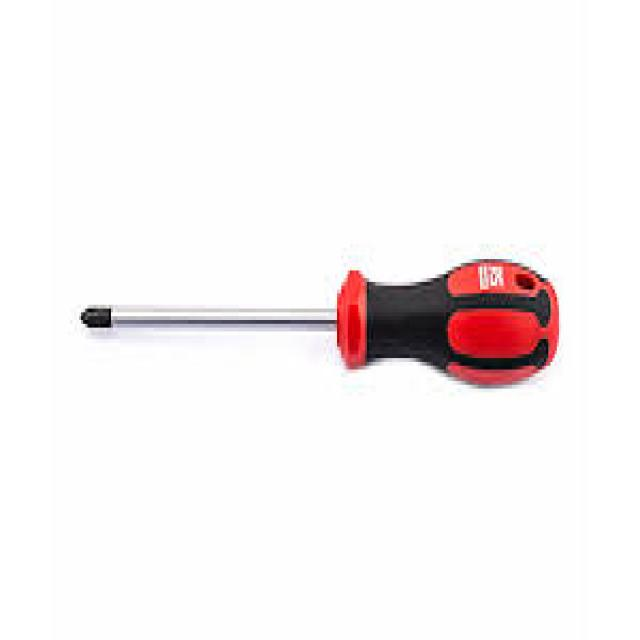Screwdriver: (81, 259, 559, 383)
